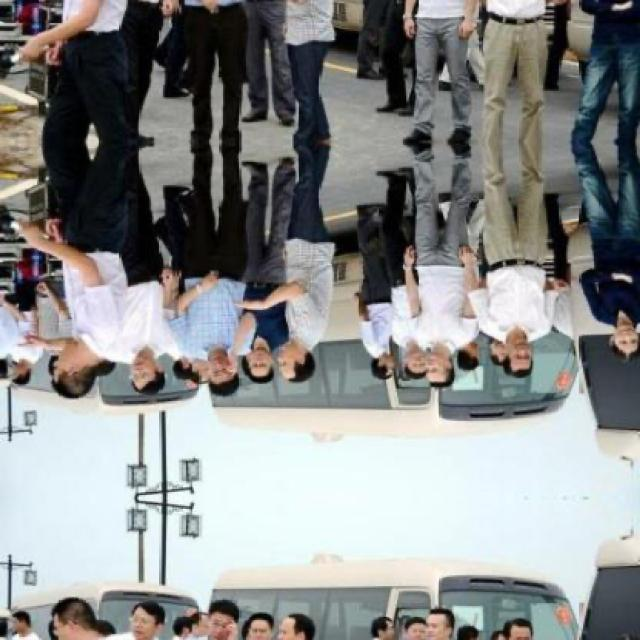sin casco: (45, 329, 96, 410), (584, 295, 635, 366), (497, 330, 562, 379), (200, 339, 242, 408), (129, 348, 164, 406), (430, 349, 461, 393), (284, 347, 314, 385)
